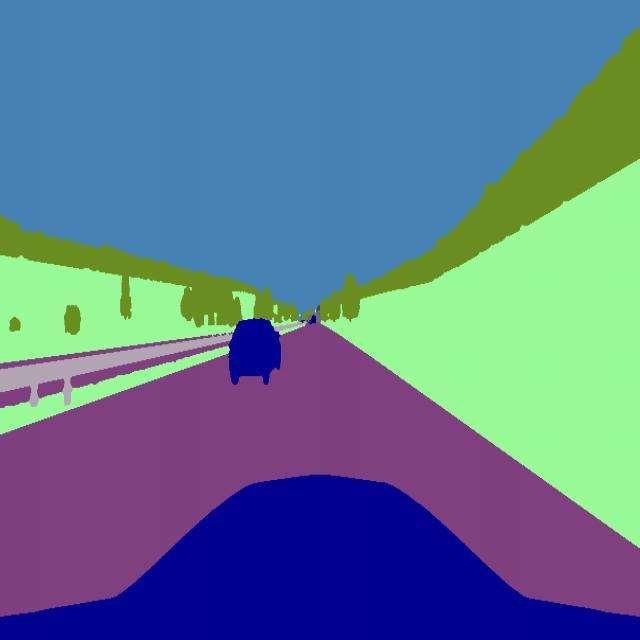safe: (224, 314, 286, 392)
